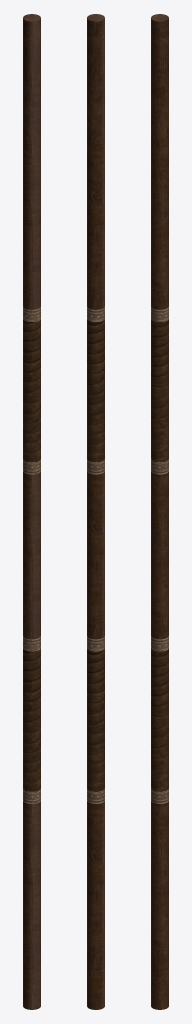
File: dunland_caerdh_spear_handle_h.fbx
The picture shows the model from 3 angles, left to right: view 1: azimuth 90°, elevation 25°; view 2: azimuth 150°, elevation 25°; view 3: azimuth 270°, elevation 25°; orthographic projection.
Visible parts, largest first — view 1: dunland_caerdh_spear_handle_h; view 2: dunland_caerdh_spear_handle_h; view 3: dunland_caerdh_spear_handle_h.
Boxes of the visible parts, x1,y1,x2,y2 form: dunland_caerdh_spear_handle_h: [23, 14, 40, 1009]; dunland_caerdh_spear_handle_h: [87, 14, 104, 1009]; dunland_caerdh_spear_handle_h: [151, 14, 168, 1009].
Bounding box in the file's own units: 0.04 × 0.04 × 2.4.
1 material, 1 textured.
